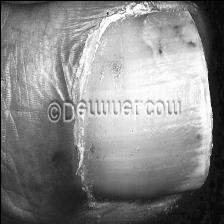Toxin: (68, 1, 207, 218)
